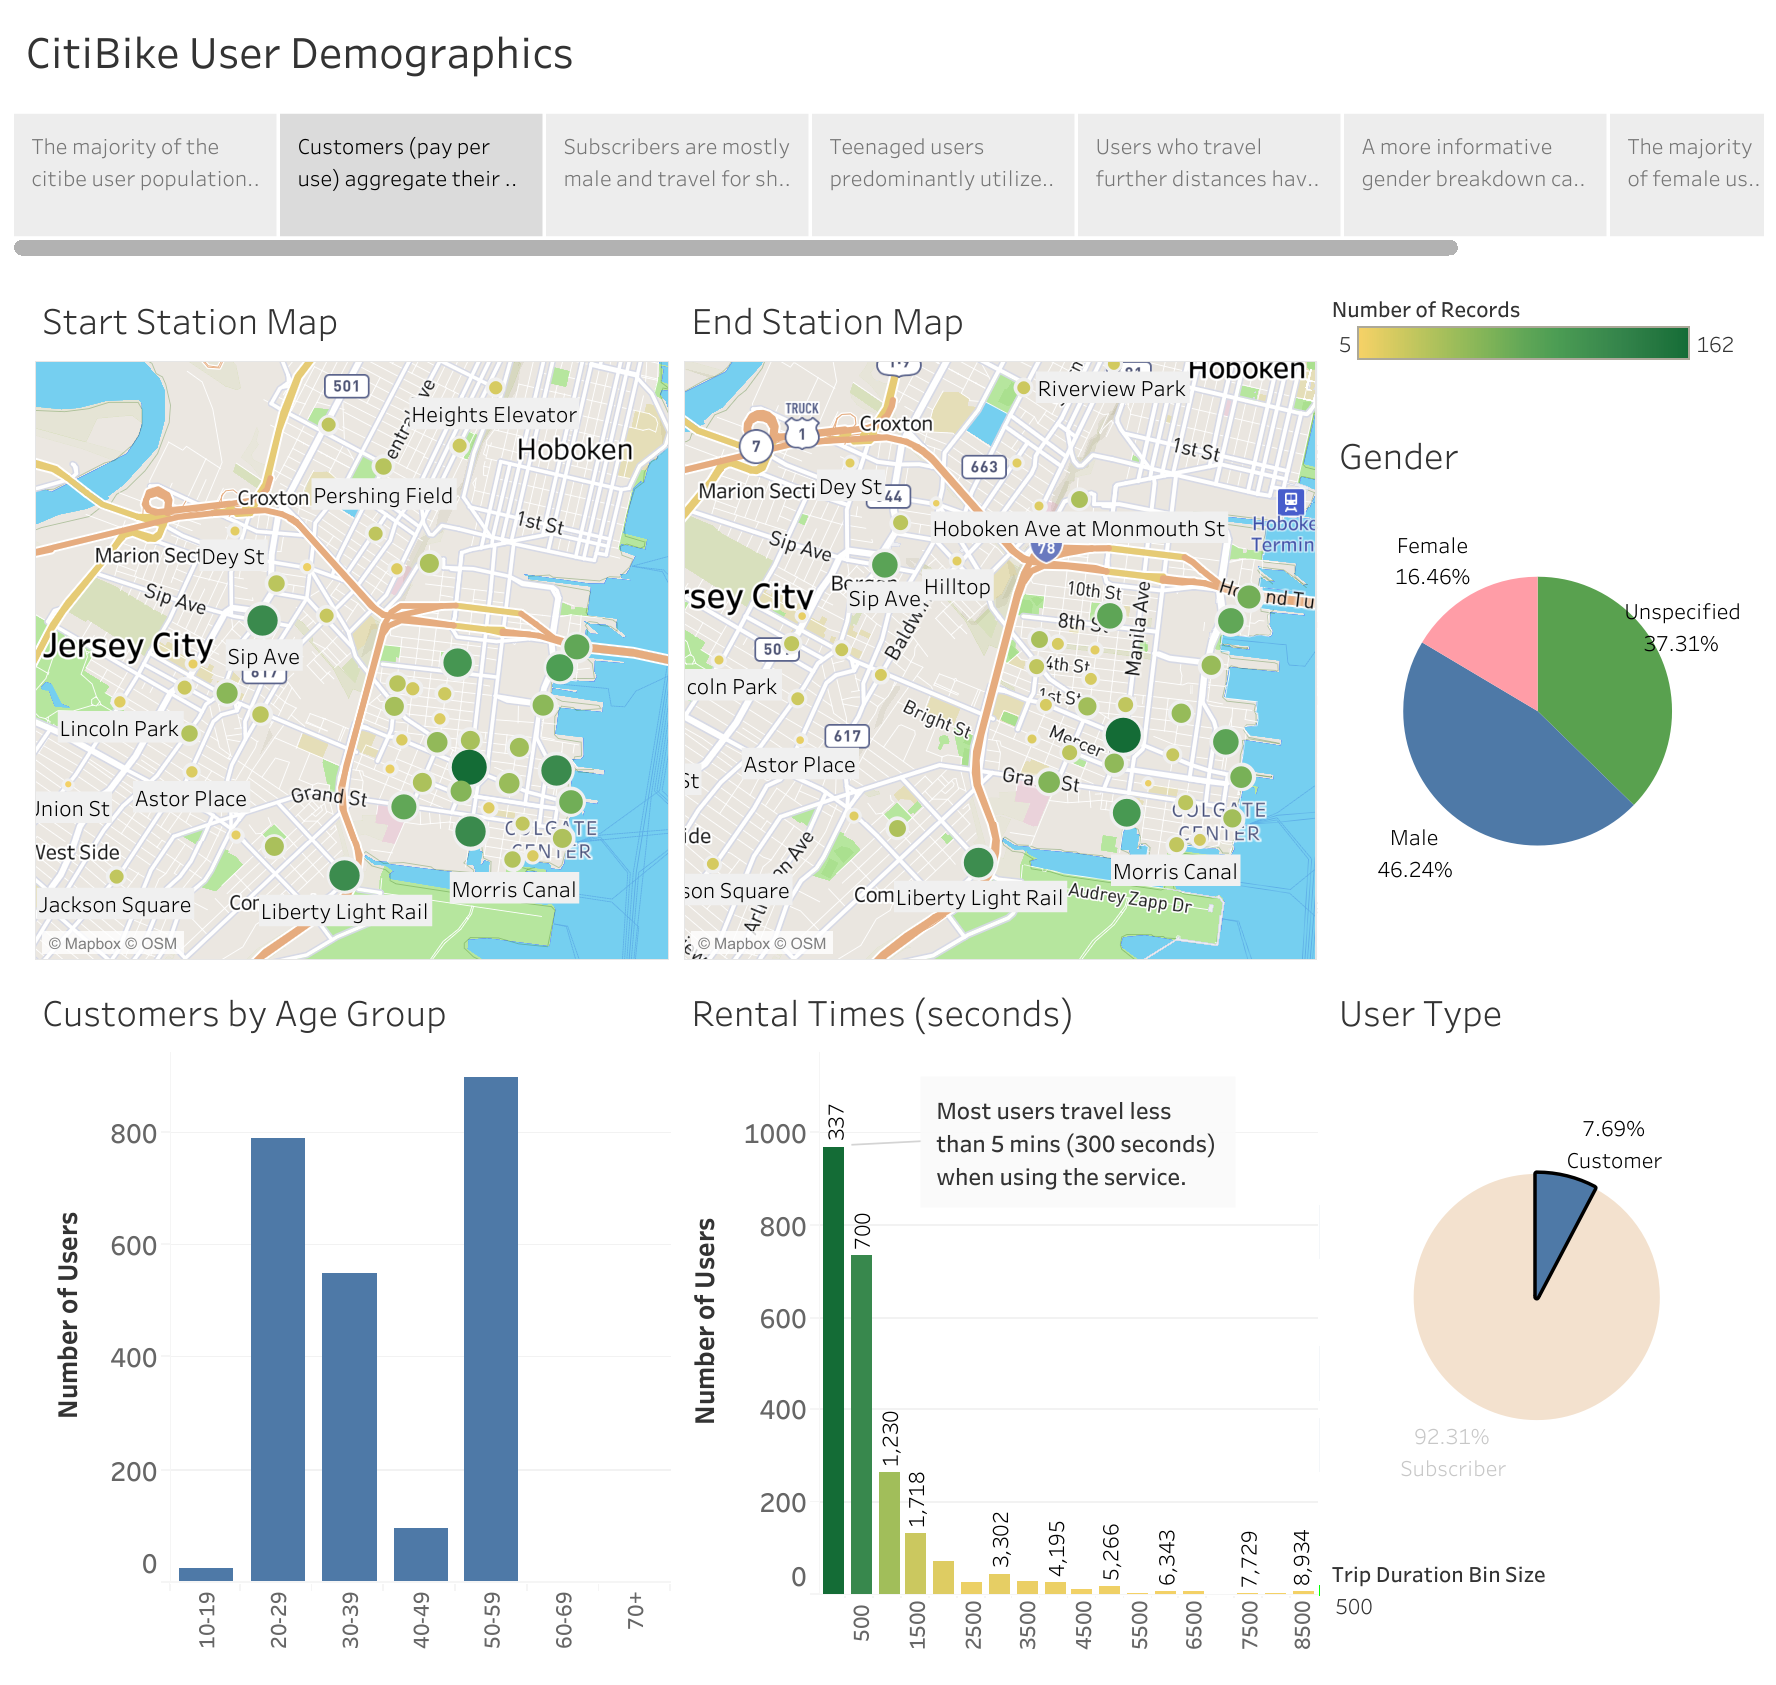

The page's visual inventory and layout, read from the dashboard file:
{"tool":"tableau","page":{"name":"Station DB","canvas":[1000,1000],"units":"permille","ordinal":2},"visuals":[{"type":"worksheet","title":"Start Station Map","mark":"Automatic","rows":["start station latitude"],"cols":["start station longitude"],"box":[6.2,9.6,399.5,490.4]},{"type":"worksheet","title":"End Station Map","mark":"Automatic","rows":["end station latitude"],"cols":["end station longitude"],"box":[405.7,9.6,399.5,490.4]},{"type":"legend","title":"Start Station Map","param":"[federated.1djbkvf0iddfvb16h6xlh0xldu7f].[sum:Number of Records:qk]","box":[805.3,9.6,188.5,92.5]},{"type":"worksheet","title":"Gender","mark":"Pie","box":[805.3,102.2,188.5,358.2]},{"type":"worksheet","title":"Customers by Age Group","mark":"Bar","rows":["Number of Records"],"cols":["Age (bin)"],"box":[6.2,500,399.5,490.4]},{"type":"worksheet","title":"Rental Times","mark":"Automatic","rows":["Number of Records"],"cols":["Tripduration (bin)"],"box":[405.7,500,399.5,490.4]},{"type":"worksheet","title":"User Type","mark":"Pie","box":[805.3,500,188.5,399]},{"type":"parameter","param":"[Parameters].[Parameter 1]","box":[805.3,899,188.5,90.2]}]}

Visuals, with their boxes on the dashboard's canvas, which has no fixed pixel size, in thousandths of its width and height (x1, y1, x2, y2). These are canvas units, not pixel positions in the 1776x1685 screenshot, which may show the page scaled, cropped or inside an application window:
"Start Station Map" worksheet: (6,10,406,500)
"End Station Map" worksheet: (406,10,805,500)
"Start Station Map" legend: (805,10,994,102)
"Gender" worksheet (Pie marks): (805,102,994,460)
"Customers by Age Group" worksheet (Bar marks): (6,500,406,990)
"Rental Times" worksheet: (406,500,805,990)
"User Type" worksheet (Pie marks): (805,500,994,899)
parameter: (805,899,994,989)
